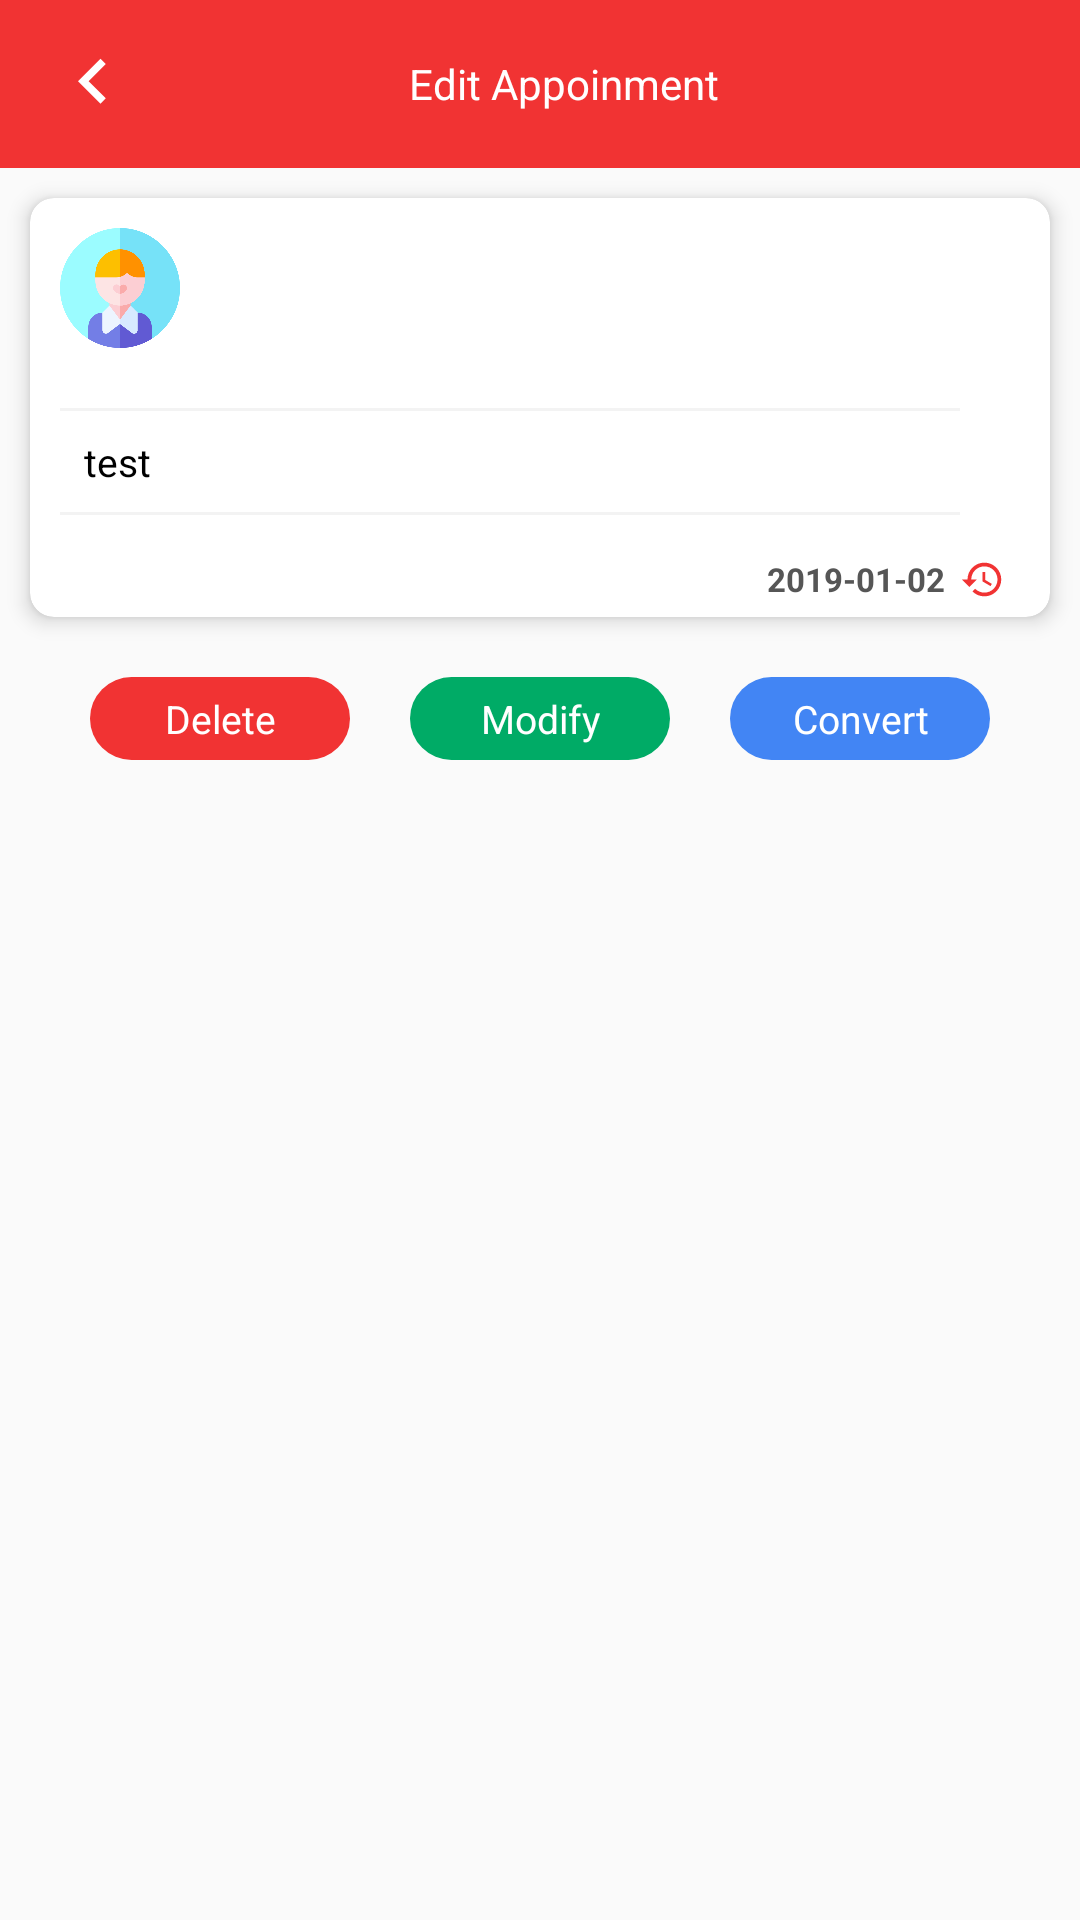

Point at icon controls on the screen. Image size 1080x1920, points as (x=x, y=y).
arrow back: (x=92, y=81)
client: (x=120, y=288)
history: (x=982, y=579)
